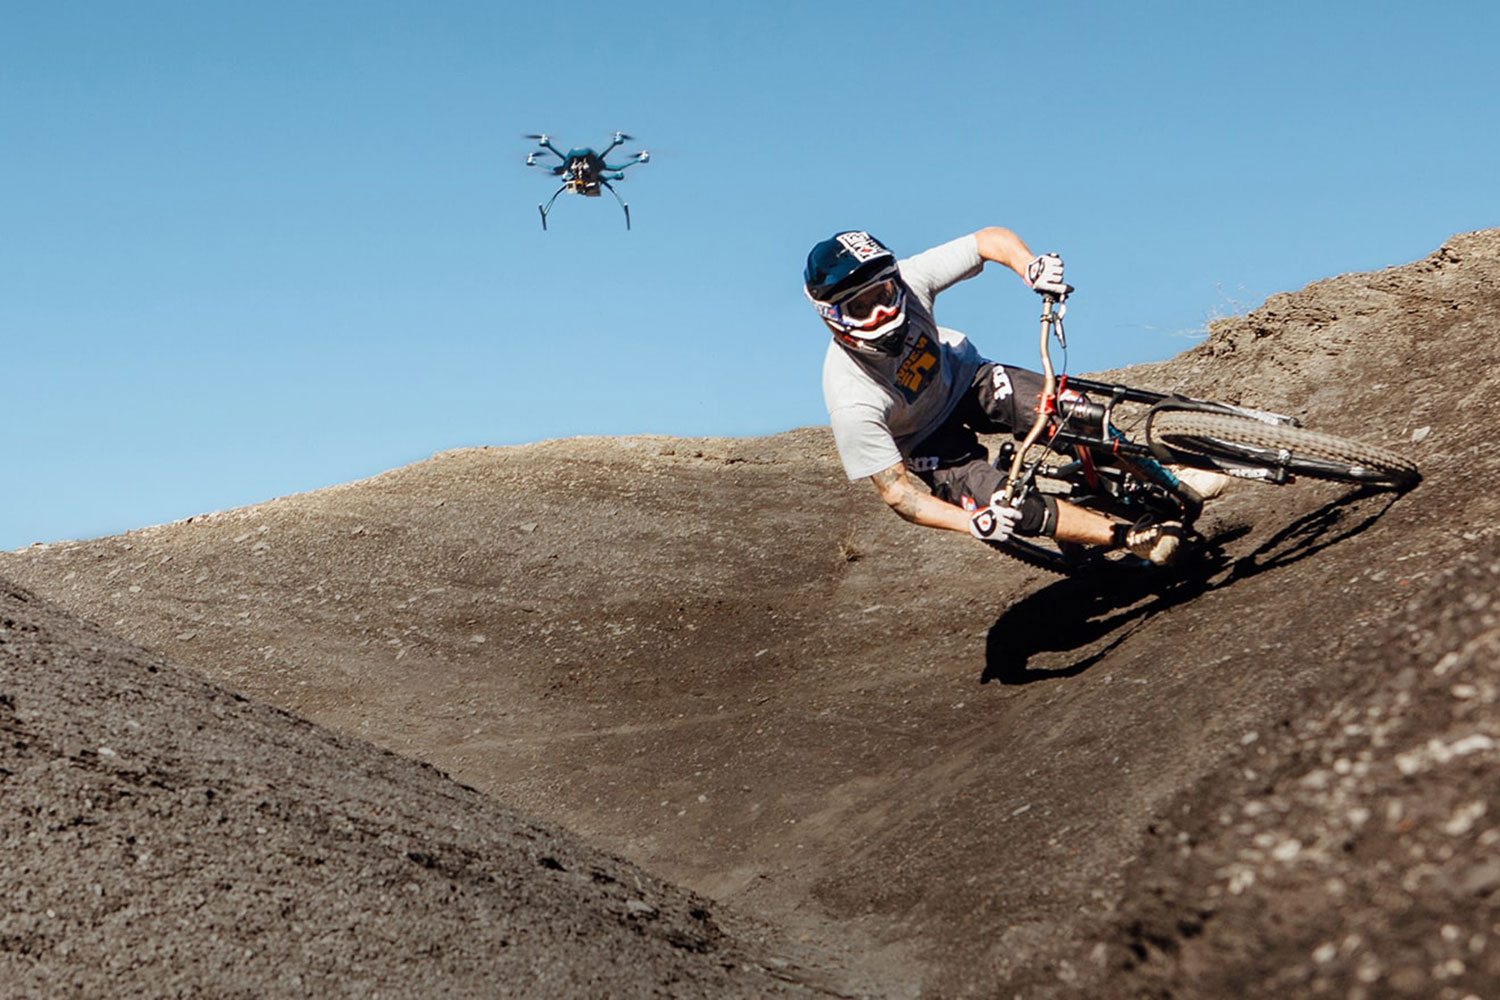drone: (495, 120, 667, 236)
person: (796, 224, 1203, 589)
